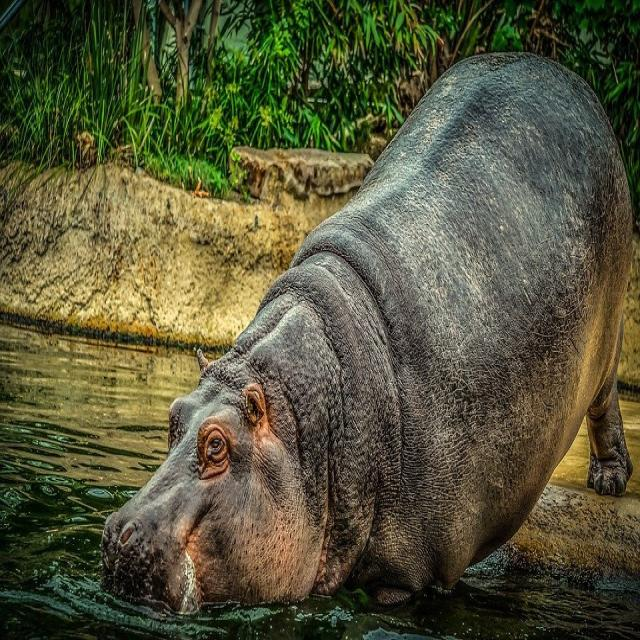Hippopotamus: (99, 53, 632, 611)
